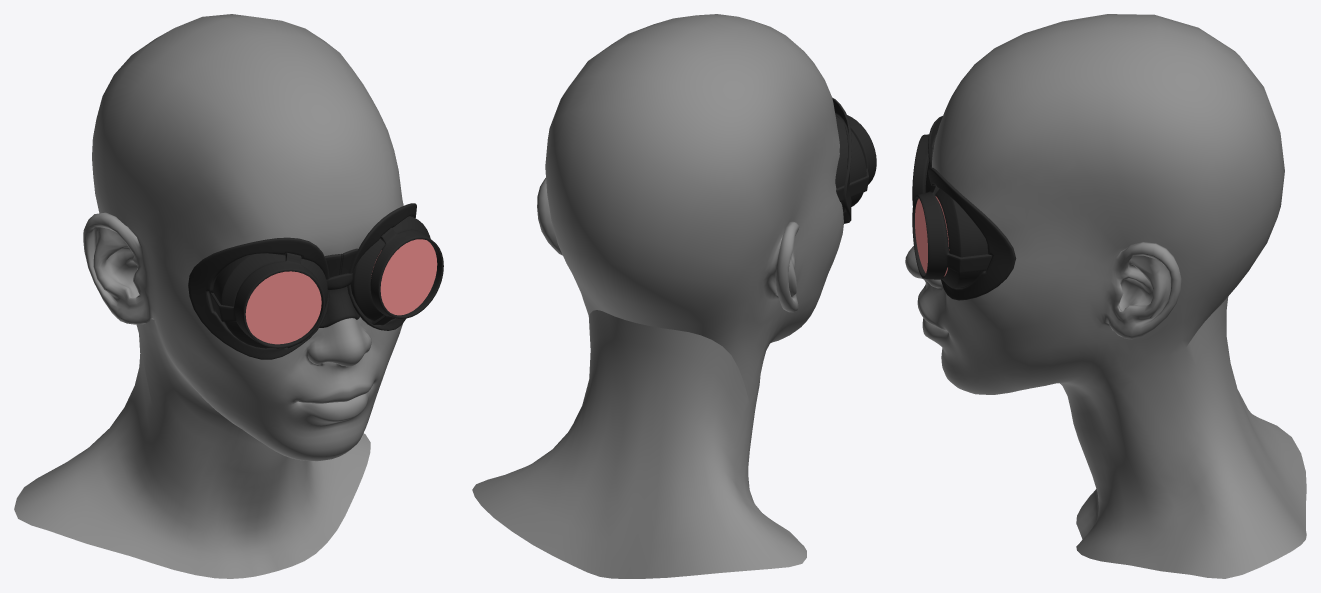
File: Character.fbx
3 renders of one model, left to right at view 1: azimuth 30°, elevation 25°; view 2: azimuth 150°, elevation 25°; view 3: azimuth 270°, elevation 25°, orthographic. The views are drawn at different scales.
Parts seen in each view (by area): view 1: Character, Mask, Google_R, Google_L; view 2: Character, Mask, Google_R; view 3: Character, Mask, Google_L, Google_R.
Boxes of the visible parts, left/top/right/bottom form: Character: left=14, top=14, right=403, bottom=578; Mask: left=188, top=203, right=430, bottom=359; Google_R: left=210, top=253, right=325, bottom=348; Google_L: left=370, top=227, right=443, bottom=325; Character: left=472, top=14, right=843, bottom=578; Mask: left=832, top=97, right=866, bottom=223; Google_R: left=836, top=115, right=876, bottom=201; Character: left=905, top=14, right=1306, bottom=578; Mask: left=925, top=116, right=1016, bottom=300; Google_L: left=912, top=184, right=991, bottom=279; Google_R: left=912, top=134, right=929, bottom=205.
Bounding box in the file's own units: 165 × 240 × 170.
